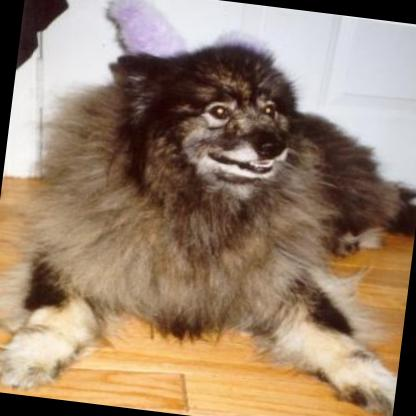keeshond: (0, 17, 416, 416)
